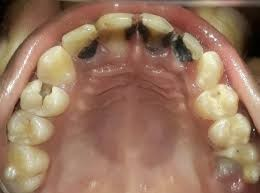UL1BC_healthy: (198, 88, 234, 118)
UL1M_decay: (220, 147, 260, 184)
UL2BC_healthy: (214, 118, 251, 143)
ULCI_decay: (138, 13, 173, 53)
ULC_healthy: (201, 53, 222, 87)
ULLI_decay: (173, 31, 203, 66)
UR1BC_decay: (20, 80, 69, 117)
UR1M_healthy: (7, 146, 49, 192)
UR2BC_healthy: (9, 115, 53, 145)
URCI_decay: (96, 12, 137, 55)
URC_healthy: (41, 48, 76, 82)
URLI_decay: (66, 25, 98, 59)
